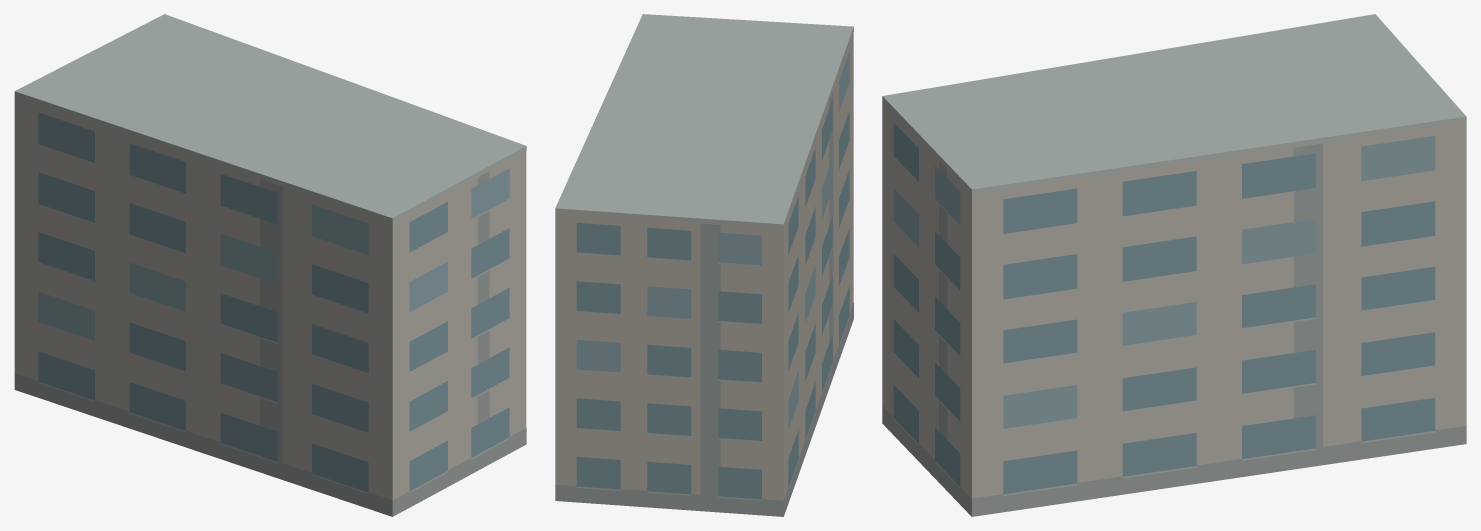
File: survey-upis-32861270.glb
3 renders of one model, left to right at view 1: azimuth 30°, elevation 25°; view 2: azimuth 150°, elevation 25°; view 3: azimuth 270°, elevation 25°, orthographic. The views are drawn at different scales.
Visible parts, largest first — view 1: survey-upis-32861270.tmp; view 2: survey-upis-32861270.tmp; view 3: survey-upis-32861270.tmp.
Boxes of the visible parts, <box> form: survey-upis-32861270.tmp: <box>14,14,526,516</box>; survey-upis-32861270.tmp: <box>555,14,853,516</box>; survey-upis-32861270.tmp: <box>882,14,1466,516</box>.
Bounding box in the file's own units: 15.98 × 13.9 × 22.48.
